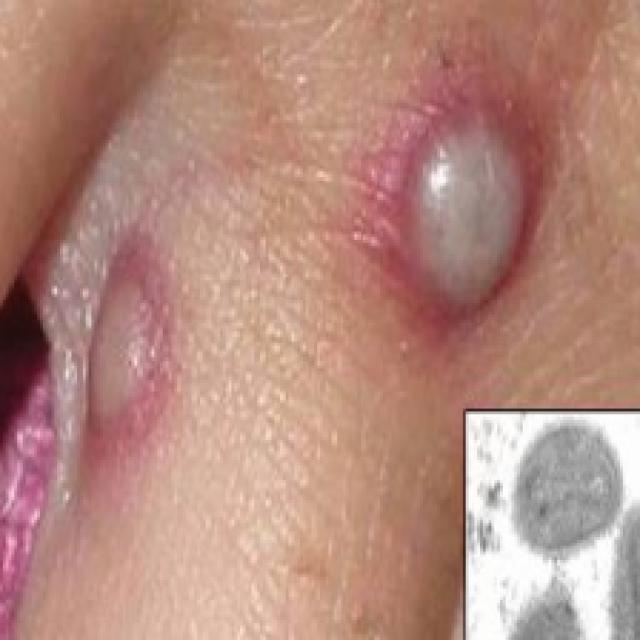Eczema: (0, 247, 179, 622), (367, 105, 536, 318)
